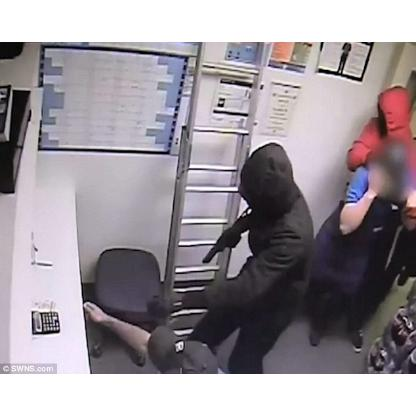gun: (200, 224, 244, 260)
